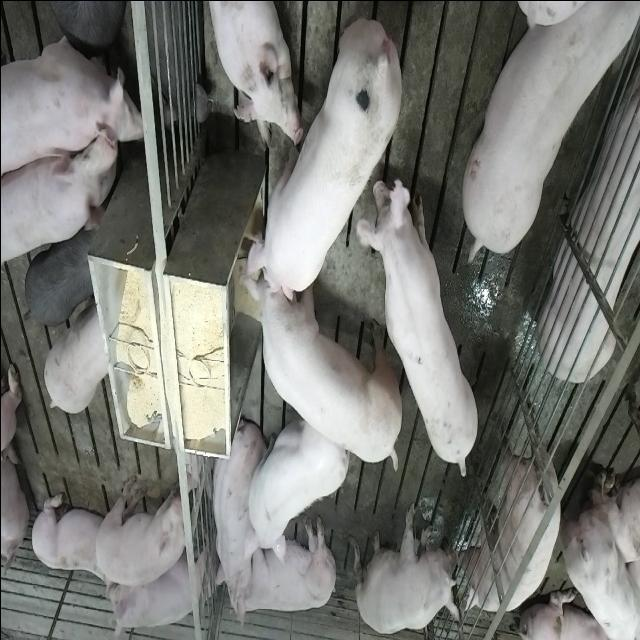Feeding: (240, 15, 404, 304), (234, 254, 398, 470)
Lateral_lying: (222, 511, 338, 628)
Sitting: (354, 502, 460, 634)
Standing: (456, 4, 635, 265), (361, 170, 481, 478), (2, 23, 136, 189), (457, 409, 558, 613), (2, 124, 120, 270), (245, 404, 349, 562), (564, 466, 640, 639), (92, 470, 194, 588), (24, 207, 102, 326), (42, 298, 110, 414), (32, 0, 124, 47)
Sternal_lying: (540, 39, 640, 379), (203, 0, 297, 148), (100, 542, 203, 636), (28, 486, 112, 590)
